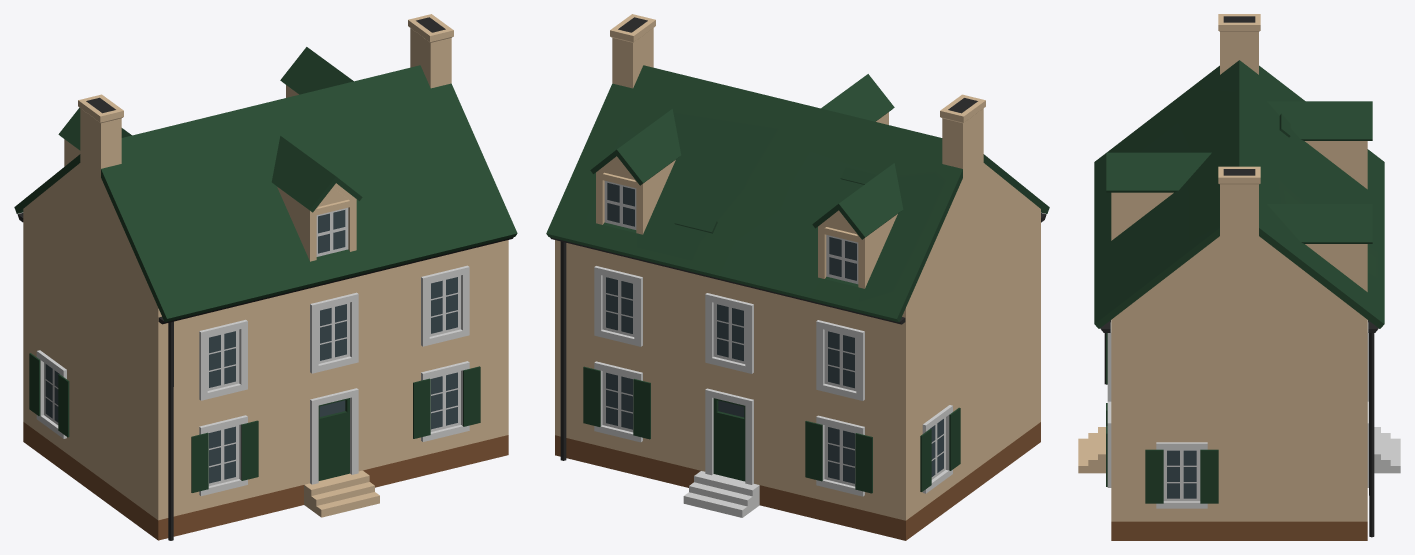
The model's file is buildings_building-house-middle.fbx.
3 views of the same model, side by side, from view 1: azimuth 30°, elevation 25°; view 2: azimuth 150°, elevation 25°; view 3: azimuth 270°, elevation 25° (orthographic). The views are drawn at different scales.
Visible parts, largest first — view 1: buildings_building_house_middle; view 2: buildings_building_house_middle; view 3: buildings_building_house_middle.
Boxes of the visible parts, left/top/right/bottom form: buildings_building_house_middle: left=14, top=14, right=517, bottom=540; buildings_building_house_middle: left=546, top=14, right=1049, bottom=540; buildings_building_house_middle: left=1078, top=14, right=1400, bottom=540.
Size of the model in its own units: 197 by 200 by 160.
